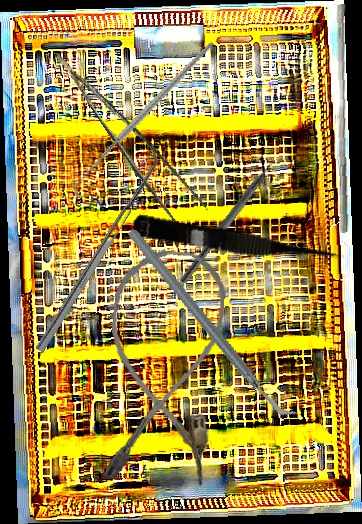Cannula: (96, 245, 229, 490)
Chopper: (127, 200, 299, 449), (179, 150, 289, 291)
Hook Surgical: (44, 40, 245, 199)
Micro Scissor: (129, 213, 347, 275)
Pusher: (328, 4, 358, 233)
Spatula Surgical: (27, 143, 169, 353)
Tissue Forceps: (57, 35, 215, 243)
